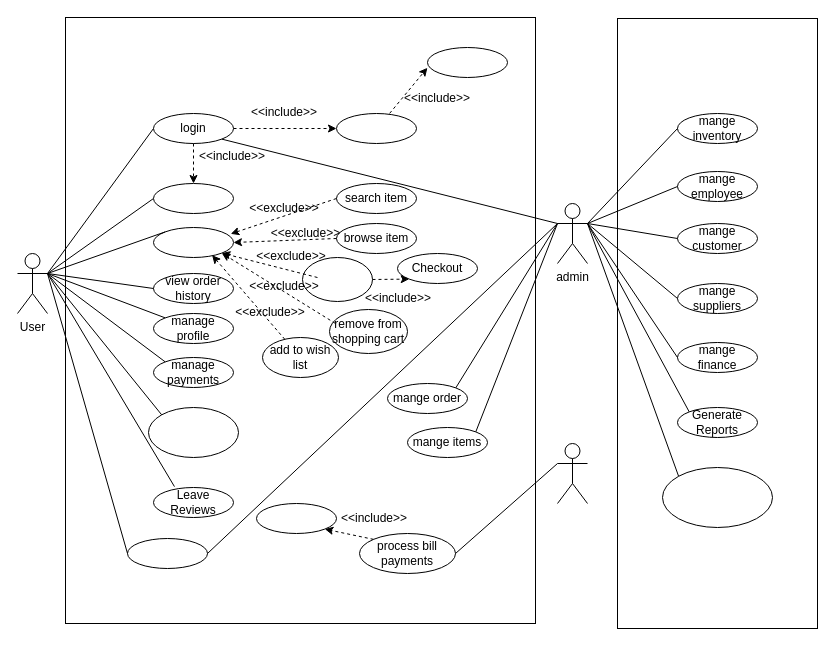
The diagram is 835 pixels wide and 646 high, and some of its shapes have lost their labels. The centre of each missing label's shape, as x and y in pixels:
"add to shopping cart" goes at point (337, 279).
"Aunthetication" goes at point (376, 128).
"bank" goes at point (572, 473).
"contact us" goes at point (193, 432).
"log out" goes at point (167, 553).
"register" goes at point (193, 198).
"system accessed" goes at point (467, 62).
"update balance" goes at point (296, 518).
"update the web site content" goes at point (717, 497).
"view item" goes at point (193, 242).
